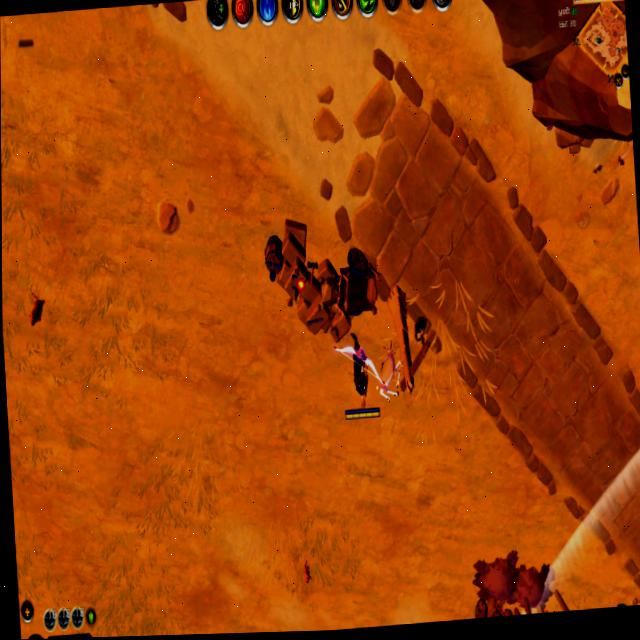mob: (370, 347, 403, 404)
red: (340, 343, 382, 424)
